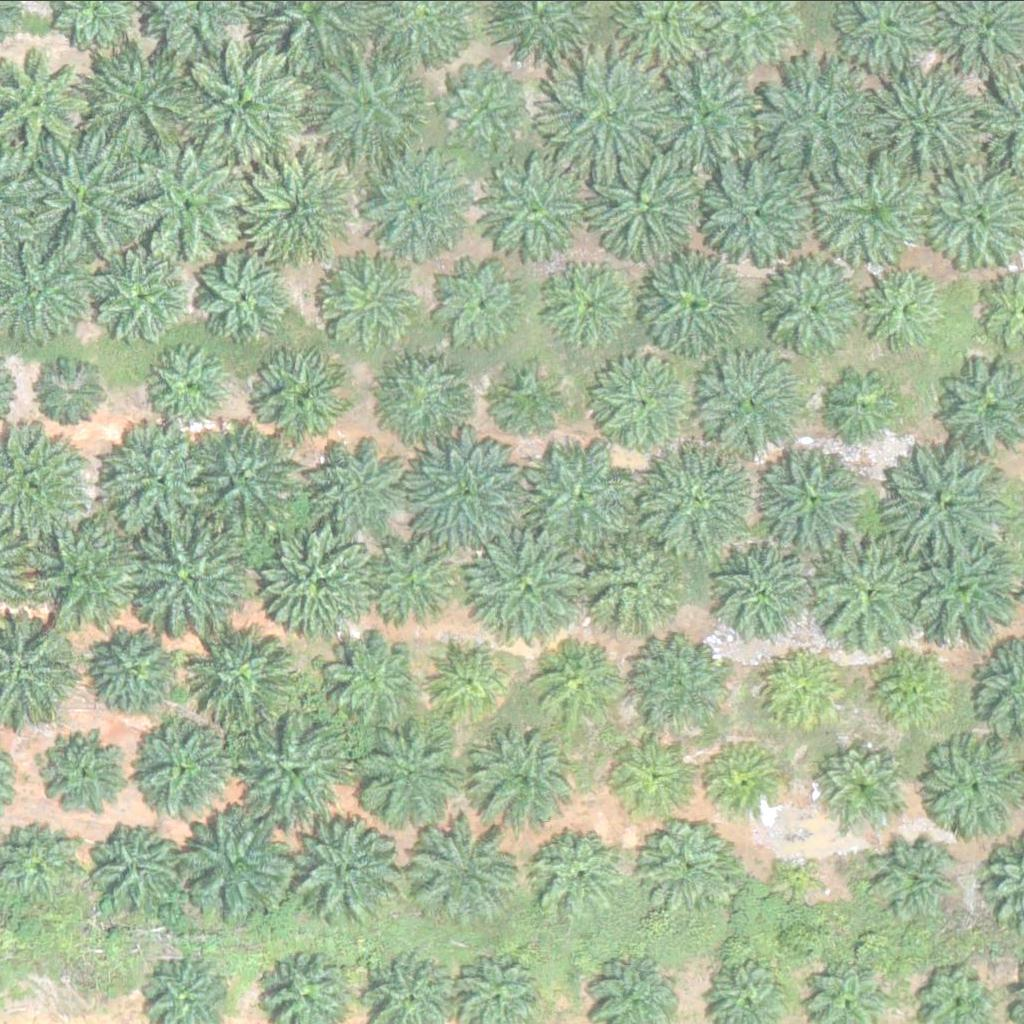Kelapa_Sawit: (543, 57, 669, 182), (182, 35, 308, 160), (805, 523, 931, 648), (890, 524, 1016, 649), (872, 436, 998, 561), (811, 142, 937, 267), (750, 54, 876, 179), (16, 132, 141, 257), (866, 60, 991, 185), (244, 154, 358, 267), (589, 150, 703, 263), (637, 247, 751, 360), (185, 622, 299, 735), (315, 44, 428, 157), (129, 143, 242, 256), (478, 150, 591, 263), (592, 342, 705, 455), (641, 440, 754, 553), (407, 436, 520, 549), (35, 515, 148, 628), (136, 524, 249, 637), (256, 527, 369, 640), (316, 629, 429, 742), (474, 520, 588, 632), (350, 718, 464, 830), (466, 721, 580, 833), (182, 812, 296, 924), (705, 155, 819, 267), (698, 346, 812, 458), (652, 57, 765, 169), (82, 43, 195, 155), (367, 153, 480, 265), (525, 438, 638, 550), (187, 419, 300, 531), (100, 424, 213, 536), (241, 713, 354, 825), (756, 446, 869, 558), (760, 241, 873, 353), (294, 433, 395, 533), (78, 613, 179, 713), (414, 829, 515, 929), (256, 344, 356, 444), (577, 529, 677, 629), (132, 716, 232, 816), (634, 820, 734, 920), (301, 825, 401, 925), (85, 820, 185, 920), (923, 730, 1023, 830), (637, 642, 726, 730), (424, 635, 512, 723), (546, 259, 634, 347), (92, 255, 180, 343), (146, 345, 234, 433), (370, 546, 458, 634), (536, 643, 624, 731), (38, 734, 126, 822), (532, 832, 620, 920), (697, 732, 785, 820), (322, 253, 410, 340), (196, 254, 284, 341), (377, 352, 465, 439), (612, 731, 700, 818), (719, 546, 807, 633), (39, 357, 115, 432), (870, 646, 946, 721), (448, 262, 524, 337), (827, 749, 903, 824), (766, 648, 842, 723), (829, 363, 905, 438), (438, 68, 513, 143), (877, 831, 952, 906), (867, 266, 942, 341), (496, 367, 559, 430), (779, 859, 829, 909)
